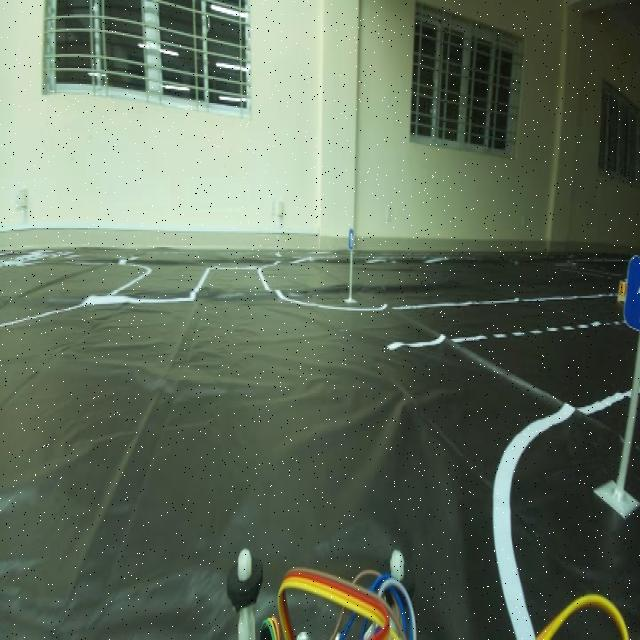onewayroad: (618, 248, 640, 320), (346, 225, 366, 266)
